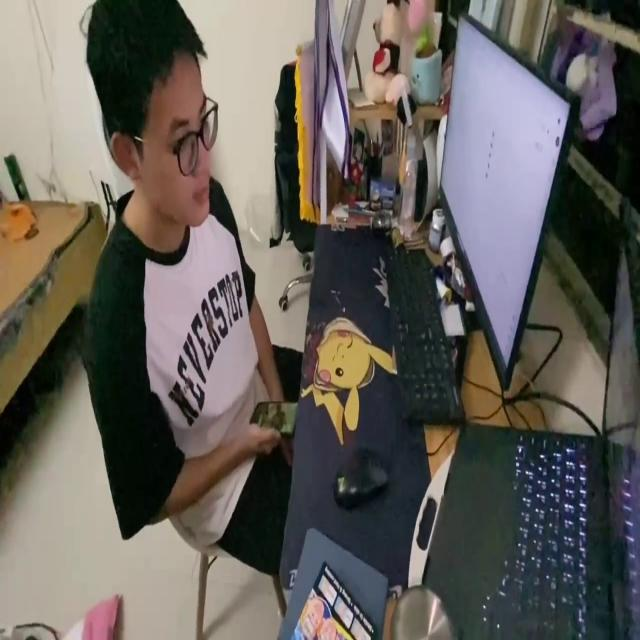laptop: (425, 203, 640, 640), (434, 7, 576, 395)
phone: (250, 397, 301, 441)
student: (84, 0, 302, 575)
